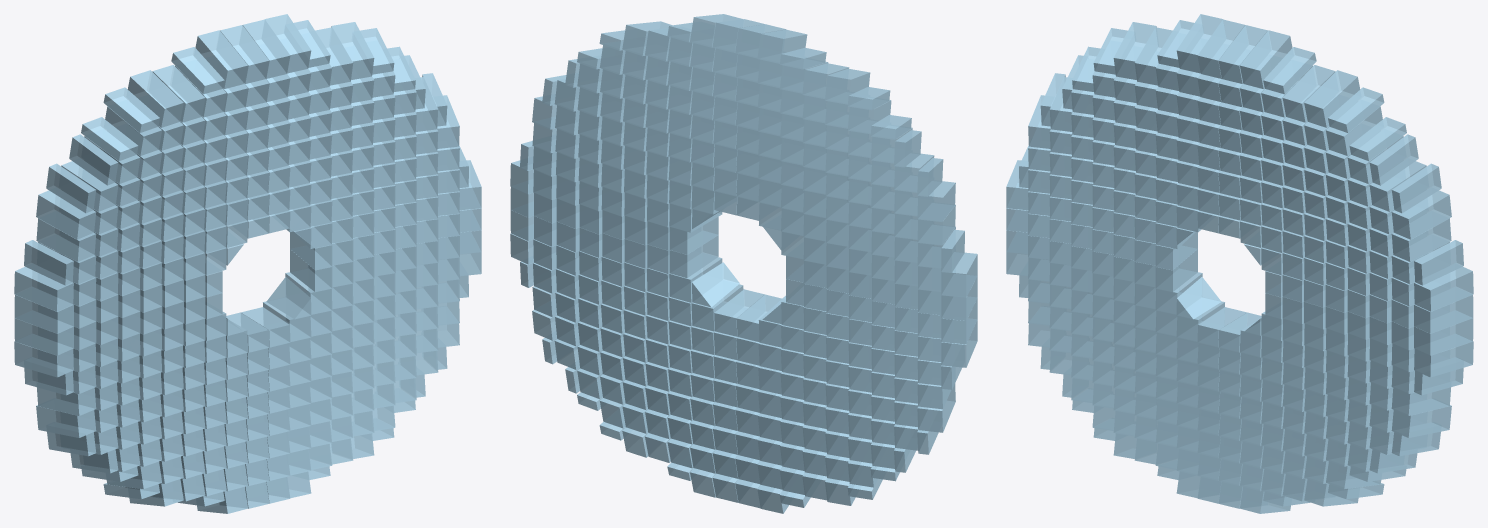
The model's file is EEminus.glb.
3 renders of one model, left to right at view 1: azimuth 30°, elevation 25°; view 2: azimuth 150°, elevation 25°; view 3: azimuth 330°, elevation 25°, orthographic.
Visible parts, largest first — view 1: Mesh553 eregalgo_EESCEnv1_materials_Air247 lp_eregalgo_EESCE, Mesh605 eregalgo_EESCEnv1_materials_Air273 lp_eregalgo_EESCE, Mesh609 eregalgo_EESCEnv1_materials_Air275 lp_eregalgo_EESCE, Mesh501 eregalgo_EESCEnv1_materials_Air221 lp_eregalgo_EESCE, Mesh619 eregalgo_EESCEnv3_materials_Air10 lp_eregalgo_EESCEn, Mesh621 eregalgo_EESCEnv3_materials_Air11 lp_eregalgo_EESCEn, Mesh617 eregalgo_EESCEnv3_materials_Air9 lp_eregalgo_EESCEnv, Mesh607 eregalgo_EESCEnv1_materials_Air274 lp_eregalgo_EESCE, Mesh611 eregalgo_EESCEnv2_materials_Air9 lp_eregalgo_EESCEnv, Mesh453 eregalgo_EESCEnv1_materials_Air206 lp_eregalgo_EESCE, Mesh451 eregalgo_EESCEnv1_materials_Air205 lp_eregalgo_EESCE, Mesh613 eregalgo_EESCEnv2_materials_Air10 lp_eregalgo_EESCEn (+68 smaller); view 2: Mesh157 eregalgo_EESCEnv5_materials_Air1 lp_eregalgo_EESCEnv, Mesh159 eregalgo_EESCEnv6_materials_Air1 lp_eregalgo_EESCEnv, Mesh609 eregalgo_EESCEnv1_materials_Air275 lp_eregalgo_EESCE, Mesh501 eregalgo_EESCEnv1_materials_Air221 lp_eregalgo_EESCE, Mesh605 eregalgo_EESCEnv1_materials_Air273 lp_eregalgo_EESCE, Mesh553 eregalgo_EESCEnv1_materials_Air247 lp_eregalgo_EESCE, Mesh311 eregalgo_EESCEnv4_materials_Air1 lp_eregalgo_EESCEnv, Mesh3 eregalgo_EESCEnv6_materials_Air lp_eregalgo_EESCEnv6_1, Mesh467 eregalgo_EESCEnv4_materials_Air2 lp_eregalgo_EESCEnv, Mesh449 eregalgo_EESCEnv1_materials_Air204 lp_eregalgo_EESCE, Mesh603 eregalgo_EESCEnv1_materials_Air272 lp_eregalgo_EESCE, Mesh535 eregalgo_EESCEnv1_materials_Air238 lp_eregalgo_EESCE (+275 smaller); view 3: Mesh85 eregalgo_EESCEnv1_materials_Air40 lp_eregalgo_EESCEnv, Mesh137 eregalgo_EESCEnv1_materials_Air66 lp_eregalgo_EESCEn, Mesh141 eregalgo_EESCEnv1_materials_Air68 lp_eregalgo_EESCEn, Mesh33 eregalgo_EESCEnv1_materials_Air14 lp_eregalgo_EESCEnv, Mesh151 eregalgo_EESCEnv3_materials_Air1 lp_eregalgo_EESCEnv, Mesh153 eregalgo_EESCEnv3_materials_Air2 lp_eregalgo_EESCEnv, Mesh149 eregalgo_EESCEnv3_materials_Air lp_eregalgo_EESCEnv3, Mesh139 eregalgo_EESCEnv1_materials_Air67 lp_eregalgo_EESCEn, Mesh143 eregalgo_EESCEnv2_materials_Air lp_eregalgo_EESCEnv2, Mesh297 eregalgo_EESCEnv1_materials_Air137 lp_eregalgo_EESCE, Mesh145 eregalgo_EESCEnv2_materials_Air1 lp_eregalgo_EESCEnv, Mesh295 eregalgo_EESCEnv1_materials_Air136 lp_eregalgo_EESCE (+68 smaller).
Boxes of the visible parts, box(x1,y1,x2,y2) form: Mesh553 eregalgo_EESCEnv1_materials_Air247 lp_eregalgo_EESCE: box(127, 70, 183, 127); Mesh605 eregalgo_EESCEnv1_materials_Air273 lp_eregalgo_EESCE: box(36, 190, 96, 239); Mesh609 eregalgo_EESCEnv1_materials_Air275 lp_eregalgo_EESCE: box(14, 266, 73, 311); Mesh501 eregalgo_EESCEnv1_materials_Air221 lp_eregalgo_EESCE: box(195, 30, 247, 88); Mesh619 eregalgo_EESCEnv3_materials_Air10 lp_eregalgo_EESCEn: box(46, 163, 96, 213); Mesh621 eregalgo_EESCEnv3_materials_Air11 lp_eregalgo_EESCEn: box(24, 240, 73, 285); Mesh617 eregalgo_EESCEnv3_materials_Air9 lp_eregalgo_EESCEnv: box(69, 134, 118, 185); Mesh607 eregalgo_EESCEnv1_materials_Air274 lp_eregalgo_EESCE: box(14, 294, 73, 333); Mesh611 eregalgo_EESCEnv2_materials_Air9 lp_eregalgo_EESCEnv: box(171, 47, 224, 94); Mesh453 eregalgo_EESCEnv1_materials_Air206 lp_eregalgo_EESCE: box(14, 341, 73, 377); Mesh451 eregalgo_EESCEnv1_materials_Air205 lp_eregalgo_EESCE: box(14, 318, 73, 355); Mesh613 eregalgo_EESCEnv2_materials_Air10 lp_eregalgo_EESCEn: box(103, 87, 159, 132); Mesh157 eregalgo_EESCEnv5_materials_Air1 lp_eregalgo_EESCEnv: box(692, 262, 739, 307); Mesh159 eregalgo_EESCEnv6_materials_Air1 lp_eregalgo_EESCEnv: box(669, 235, 718, 277); Mesh609 eregalgo_EESCEnv1_materials_Air275 lp_eregalgo_EESCE: box(941, 252, 977, 297); Mesh501 eregalgo_EESCEnv1_materials_Air221 lp_eregalgo_EESCE: box(757, 29, 807, 63); Mesh605 eregalgo_EESCEnv1_materials_Air273 lp_eregalgo_EESCE: box(917, 181, 955, 221); Mesh553 eregalgo_EESCEnv1_materials_Air247 lp_eregalgo_EESCE: box(825, 68, 870, 104); Mesh311 eregalgo_EESCEnv4_materials_Air1 lp_eregalgo_EESCEnv: box(714, 289, 764, 336); Mesh3 eregalgo_EESCEnv6_materials_Air lp_eregalgo_EESCEnv6_1: box(669, 217, 718, 254); Mesh467 eregalgo_EESCEnv4_materials_Air2 lp_eregalgo_EESCEnv: box(736, 294, 781, 342); Mesh449 eregalgo_EESCEnv1_materials_Air204 lp_eregalgo_EESCE: box(917, 383, 955, 432); Mesh603 eregalgo_EESCEnv1_materials_Air272 lp_eregalgo_EESCE: box(917, 204, 955, 245); Mesh535 eregalgo_EESCEnv1_materials_Air238 lp_eregalgo_EESCE: box(802, 63, 849, 98); Mesh85 eregalgo_EESCEnv1_materials_Air40 lp_eregalgo_EESCEnv: box(1304, 70, 1360, 127); Mesh137 eregalgo_EESCEnv1_materials_Air66 lp_eregalgo_EESCEn: box(1391, 190, 1451, 239); Mesh141 eregalgo_EESCEnv1_materials_Air68 lp_eregalgo_EESCEn: box(1414, 266, 1473, 311); Mesh33 eregalgo_EESCEnv1_materials_Air14 lp_eregalgo_EESCEnv: box(1240, 30, 1292, 88); Mesh151 eregalgo_EESCEnv3_materials_Air1 lp_eregalgo_EESCEnv: box(1391, 163, 1441, 213); Mesh153 eregalgo_EESCEnv3_materials_Air2 lp_eregalgo_EESCEnv: box(1414, 240, 1463, 285); Mesh149 eregalgo_EESCEnv3_materials_Air lp_eregalgo_EESCEnv3: box(1369, 134, 1418, 185); Mesh139 eregalgo_EESCEnv1_materials_Air67 lp_eregalgo_EESCEn: box(1414, 294, 1473, 333); Mesh143 eregalgo_EESCEnv2_materials_Air lp_eregalgo_EESCEnv2: box(1263, 47, 1316, 94); Mesh297 eregalgo_EESCEnv1_materials_Air137 lp_eregalgo_EESCE: box(1414, 341, 1473, 377); Mesh145 eregalgo_EESCEnv2_materials_Air1 lp_eregalgo_EESCEnv: box(1328, 87, 1384, 132); Mesh295 eregalgo_EESCEnv1_materials_Air136 lp_eregalgo_EESCE: box(1414, 318, 1473, 355).
Bounding box in the file's own units: 3.21 × 3.19 × 0.3916.
